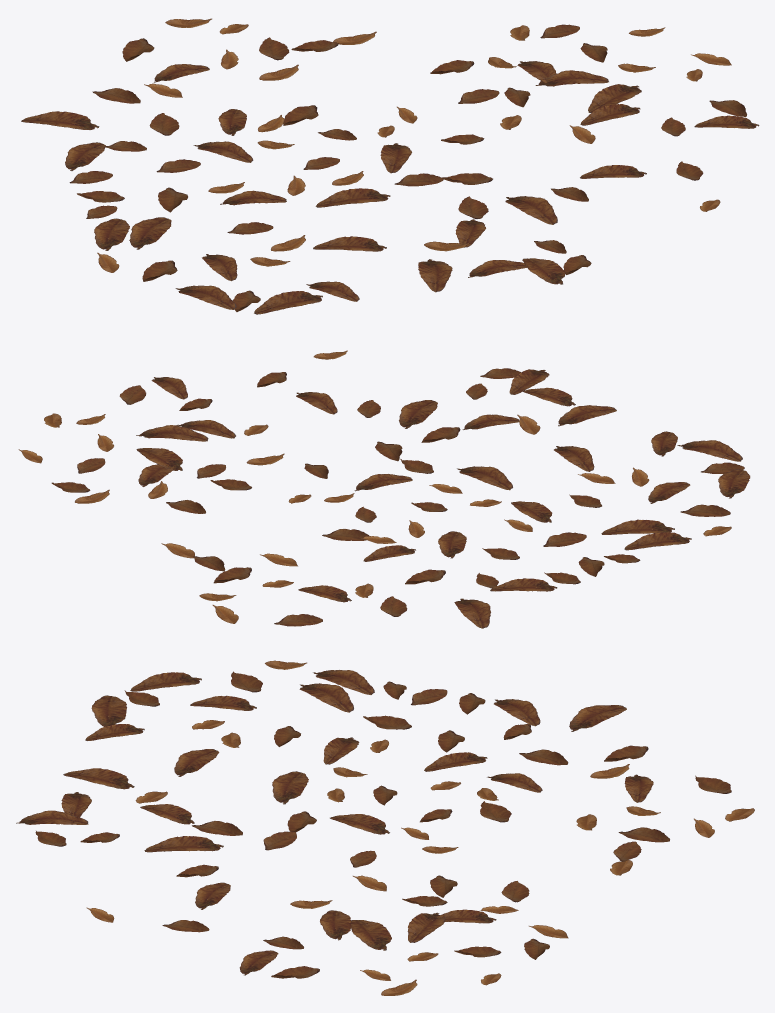
Rendered from SM_DriedLeaves1.fbx.
3 renders of one model, top to bottom at view 1: azimuth 30°, elevation 25°; view 2: azimuth 150°, elevation 25°; view 3: azimuth 270°, elevation 25°, orthographic. The views are drawn at different scales.
Parts seen in each view (by area): view 1: SM_DriedLeaves1; view 2: SM_DriedLeaves1; view 3: SM_DriedLeaves1.
Part boxes in pixels (box(x1,y1,x2,y2)): SM_DriedLeaves1: box(21, 18, 759, 314); SM_DriedLeaves1: box(18, 350, 750, 628); SM_DriedLeaves1: box(16, 660, 754, 995).
Bounding box in the file's own units: 357 × 331 × 6.76.
